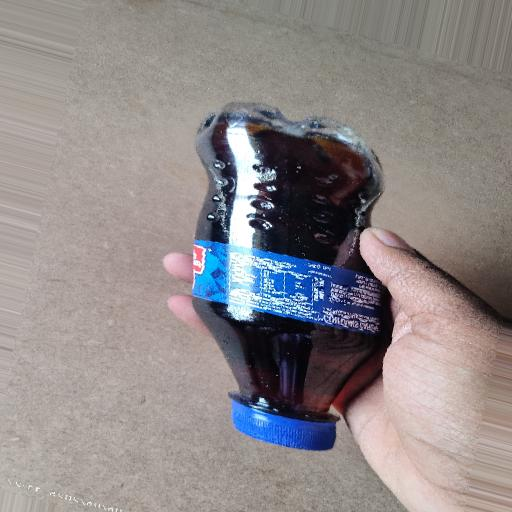Thumps Up: (139, 80, 405, 480)
